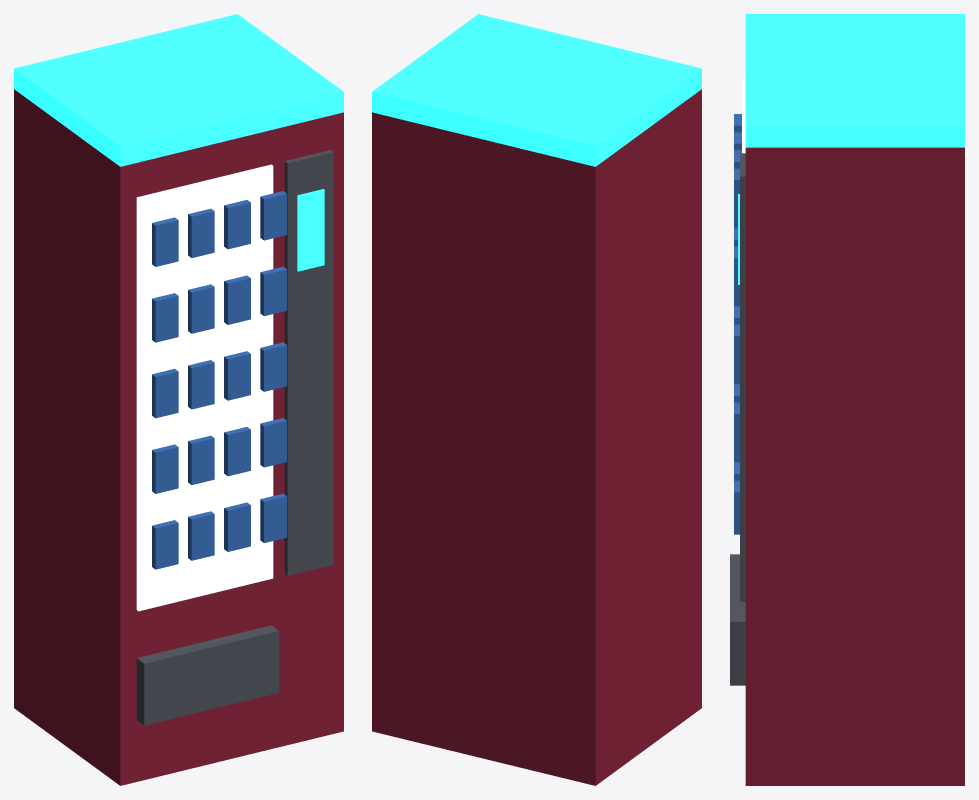
The model's file is cyb-maquina-venda.gltf.
3 views of the same model, side by side, from view 1: azimuth 30°, elevation 25°; view 2: azimuth 150°, elevation 25°; view 3: azimuth 270°, elevation 25° (orthographic). The views are drawn at different scales.
Visible parts, largest first — view 1: cyb-maquina-venda; view 2: cyb-maquina-venda; view 3: cyb-maquina-venda.
Part boxes in pixels (x1,y1,x2,y2): cyb-maquina-venda: (14, 14, 343, 785); cyb-maquina-venda: (372, 14, 701, 785); cyb-maquina-venda: (730, 14, 964, 785).
Size of the model in its own units: 0.68 by 1.86 by 0.6.
